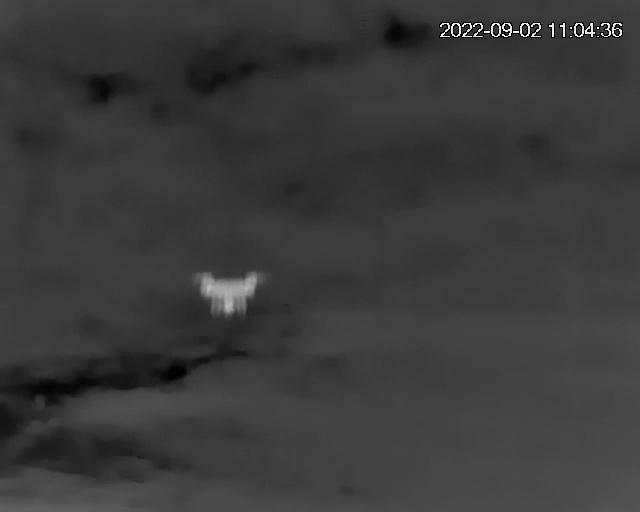DJI-Phantom: (191, 267, 265, 319)
